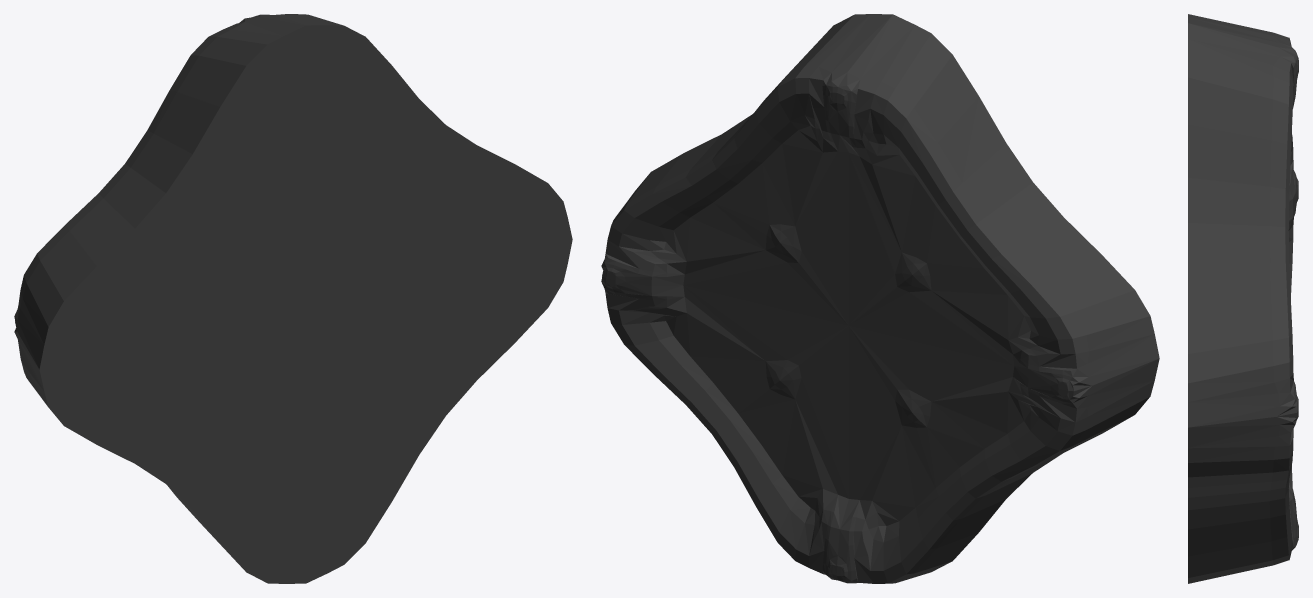
3 renders of one model, left to right at view 1: azimuth 30°, elevation 25°; view 2: azimuth 150°, elevation 25°; view 3: azimuth 270°, elevation 25°, orthographic.
Visible parts, largest first — view 1: world; view 2: world; view 3: world.
Part boxes in pixels (x1,y1,x2,y2): world: (14,14,572,583); world: (601,14,1159,583); world: (1188,14,1298,583).
Size of the model in its own units: 0.7935 by 0.7936 by 0.1447.
Materials: 1 (1 with a texture image).
